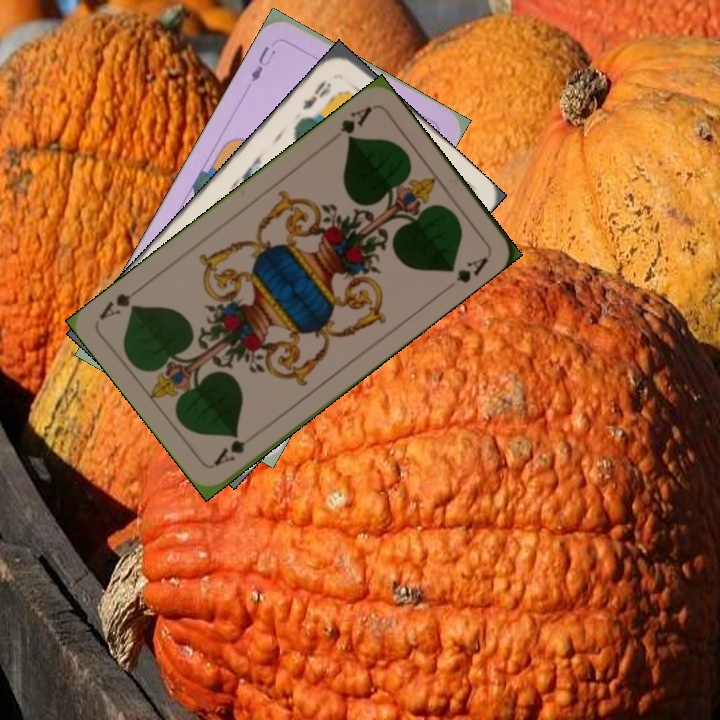EO: (298, 77, 334, 113)
EU: (246, 42, 274, 85)
GA: (335, 102, 375, 145), (209, 432, 248, 469)
